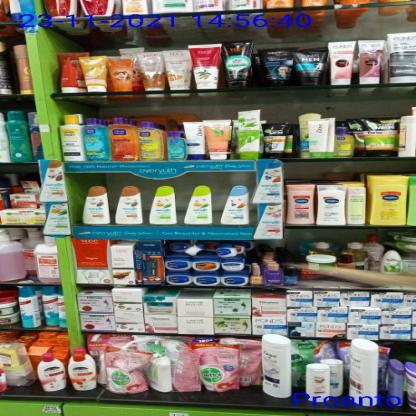Everyuth Naturals Body Lotion Nourishing Cocoa 200ml: (80, 186, 110, 225), (116, 186, 144, 224)
Everyuth Naturals Body Lotion Soothing Citrus 200ml: (184, 184, 211, 224), (150, 186, 176, 223)
Everyuth Naturals Body Lotion Sun Care Berries SPF 15 200ml: (221, 186, 250, 224)
